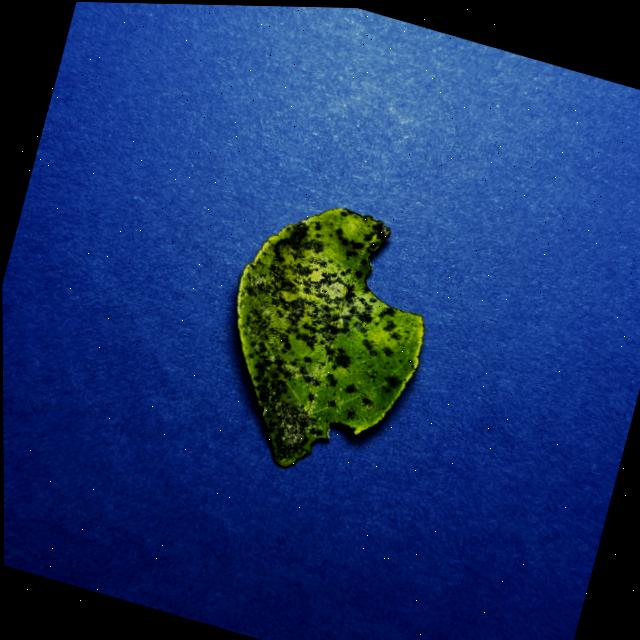sooty_mold: (236, 207, 422, 465)
